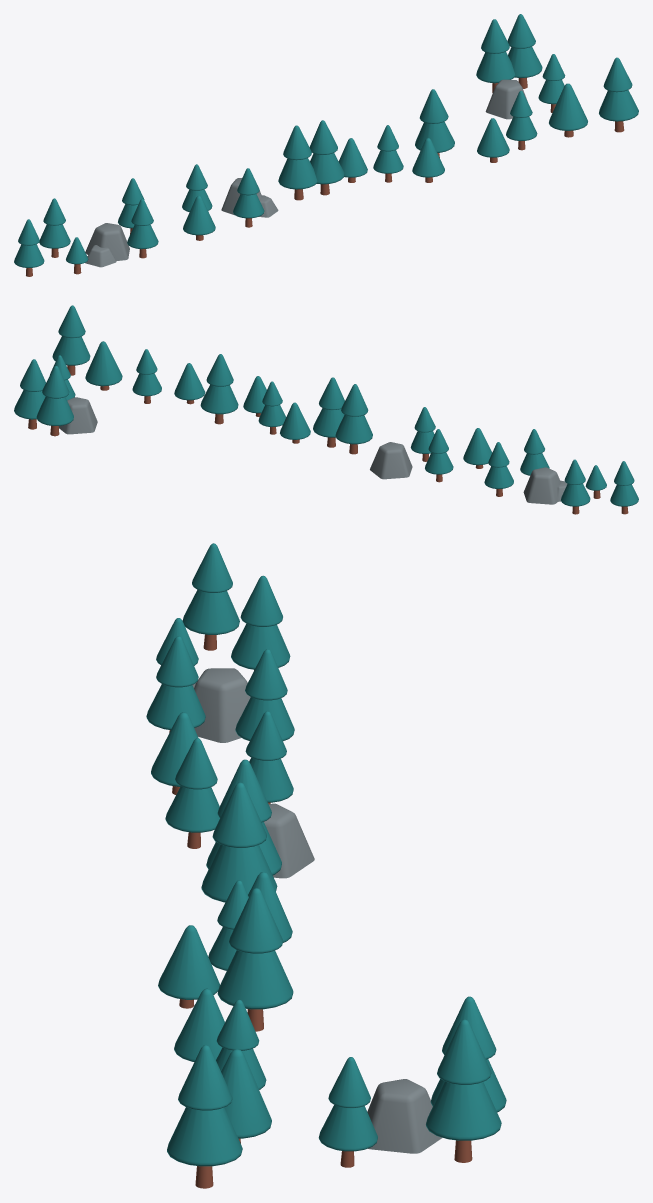
File: Objetos_delanteros.fbx
3 renders of one model, top to bottom at view 1: azimuth 30°, elevation 25°; view 2: azimuth 150°, elevation 25°; view 3: azimuth 270°, elevation 25°, orthographic. The views are drawn at different scales.
Visible parts, largest first — view 1: polySurface55, polySurface61, polySurface60, polySurface97, polySurface63, polySurface92, polySurface116, polySurface73, polySurface25, polySurface32, polySurface95, polySurface82 (+23 smaller); view 2: polySurface79, polySurface61, polySurface55, polySurface97, polySurface73, polySurface63, polySurface92, polySurface60, polySurface25, polySurface114, polySurface32, polySurface82 (+25 smaller); view 3: polySurface97, polySurface60, polySurface95, polySurface73, polySurface61, polySurface116, polySurface55, polySurface82, polySurface33, polySurface54, polySurface94, polySurface65 (+21 smaller).
Boxes of the visible parts, x1,y1,x2,y2 form: polySurface55: [549, 83, 587, 130]; polySurface61: [85, 223, 129, 260]; polySurface60: [599, 90, 638, 121]; polySurface97: [485, 79, 527, 119]; polySurface63: [278, 158, 317, 189]; polySurface92: [476, 51, 515, 83]; polySurface116: [412, 138, 444, 177]; polySurface73: [415, 121, 454, 152]; polySurface25: [477, 118, 509, 157]; polySurface32: [183, 196, 215, 235]; polySurface95: [508, 46, 542, 77]; polySurface82: [310, 153, 344, 184]; polySurface79: [370, 442, 412, 479]; polySurface61: [523, 467, 561, 504]; polySurface55: [85, 341, 122, 386]; polySurface97: [59, 397, 97, 434]; polySurface73: [200, 384, 238, 414]; polySurface63: [335, 415, 372, 444]; polySurface92: [36, 396, 73, 425]; polySurface60: [52, 336, 90, 365]; polySurface25: [174, 363, 205, 400]; polySurface114: [280, 402, 310, 439]; polySurface32: [463, 428, 492, 465]; polySurface82: [313, 408, 344, 437]; polySurface97: [367, 1079, 442, 1153]; polySurface60: [167, 1107, 242, 1166]; polySurface95: [426, 1081, 501, 1140]; polySurface73: [217, 950, 293, 1009]; polySurface61: [194, 668, 250, 742]; polySurface116: [158, 925, 219, 999]; polySurface55: [221, 1049, 271, 1138]; polySurface82: [201, 844, 277, 902]; polySurface33: [229, 888, 283, 953]; polySurface54: [178, 1045, 232, 1110]; polySurface94: [437, 1019, 491, 1084]; polySurface65: [212, 782, 266, 847].
Size of the model in its own units: 43.9 by 5.13 by 11.73.
